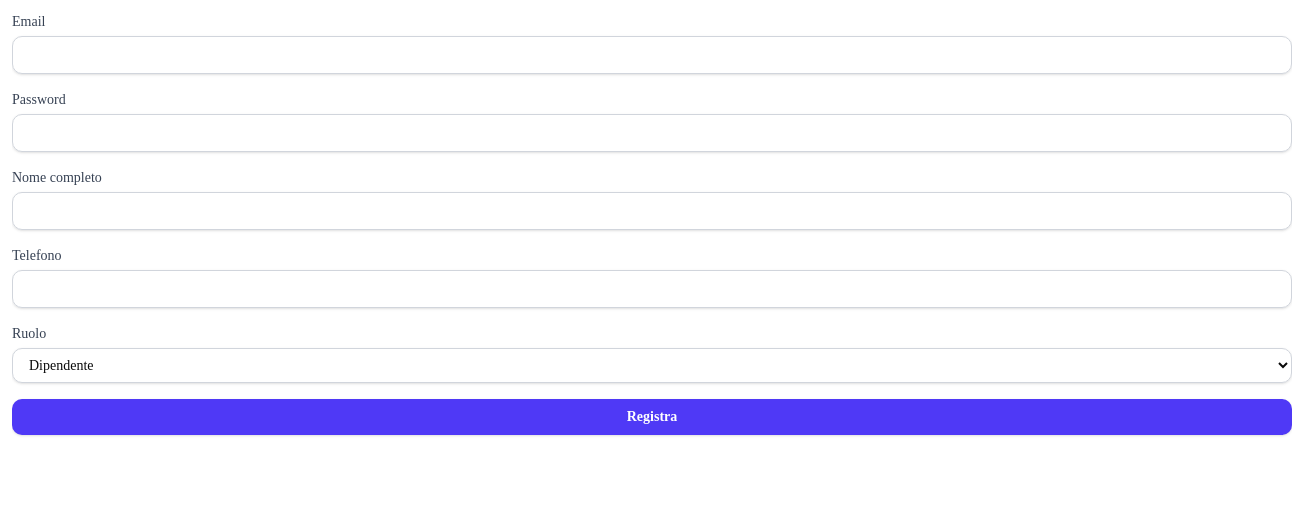
it: RegisterPage / RegisterForm › submit — error › shows an error alert when registerUser returns an error
In the field labelled "Email": {"x": 652, "y": 55} [12,36,1292,74], type "esistente@example.com"
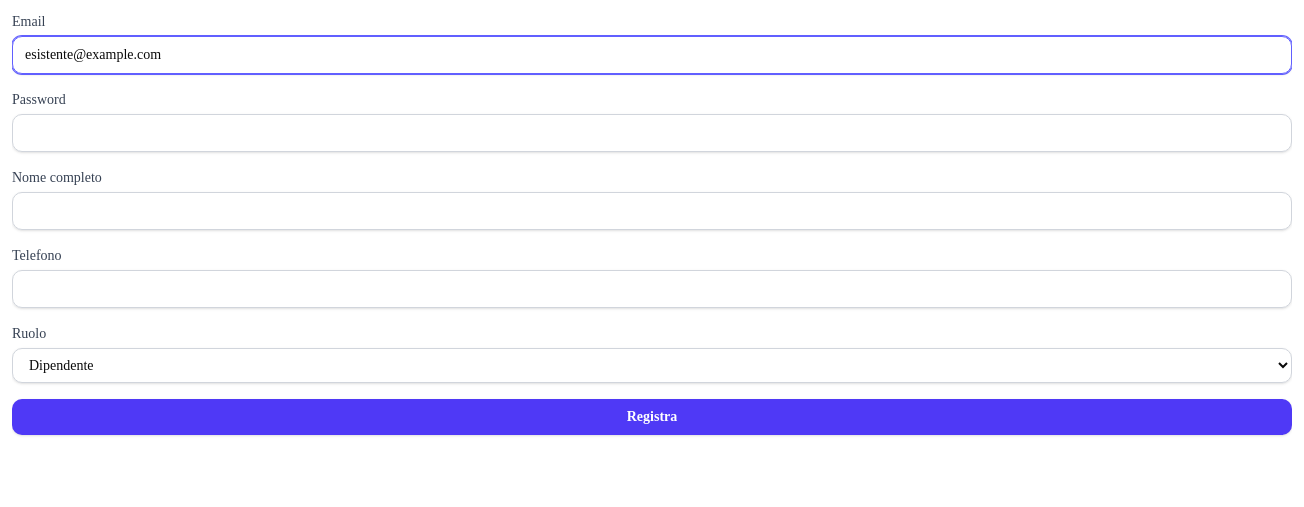
In the password field labelled "Password": {"x": 652, "y": 133} [12,114,1292,152], type "password123"
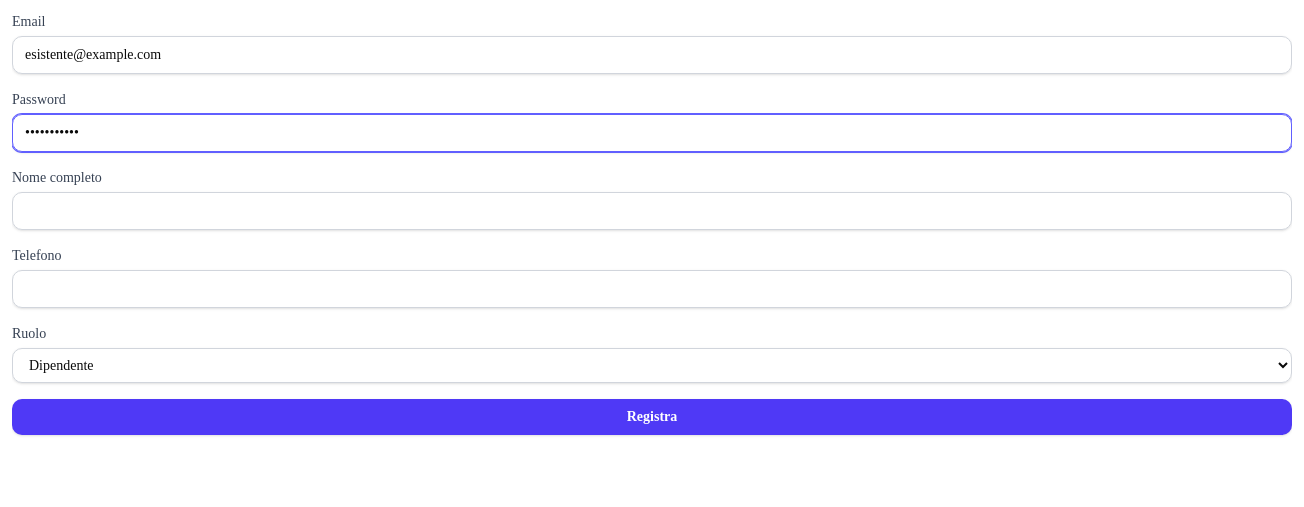
In the field labelled "Nome completo": {"x": 652, "y": 211} [12,192,1292,230], type "Utente Già"
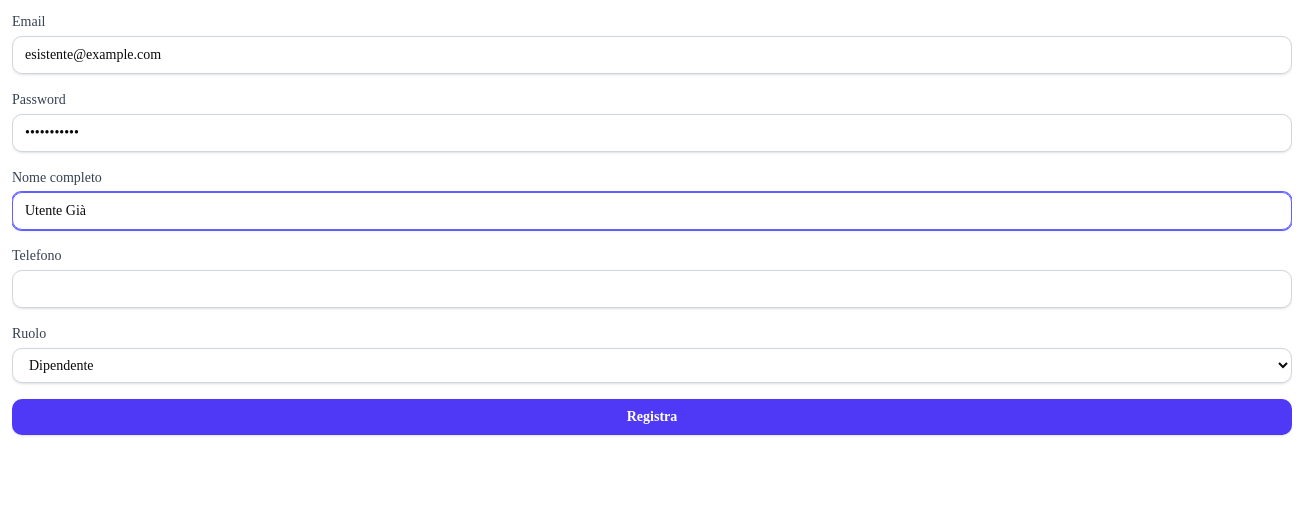
In the field labelled "Telefono": {"x": 652, "y": 289} [12,270,1292,308], type "3331234567"
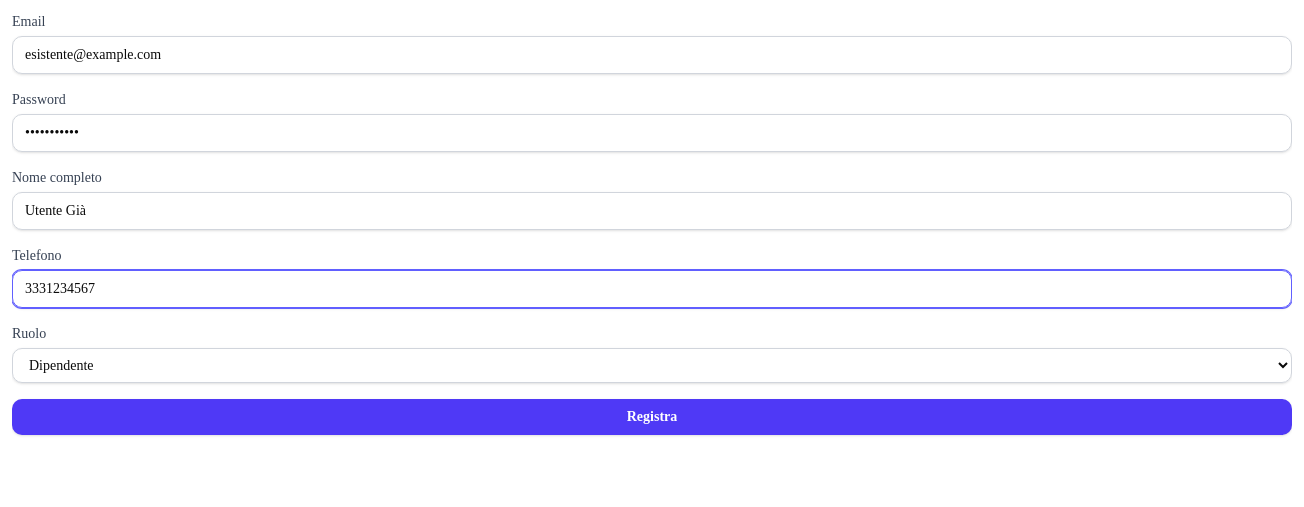
Click the button "Registra": {"x": 652, "y": 417} [12,399,1292,435]
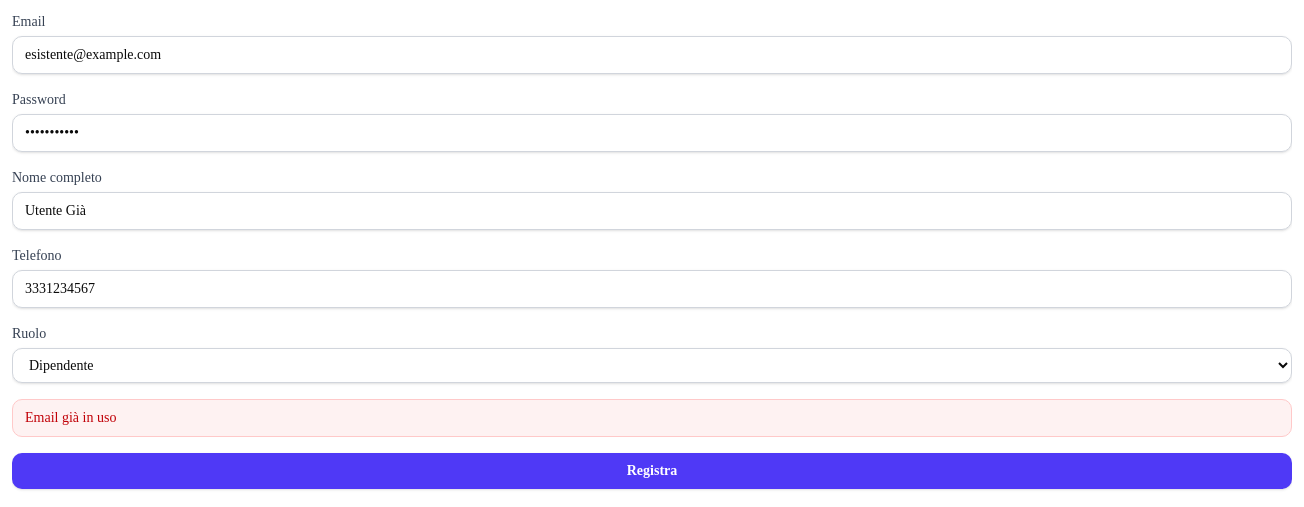
Expected: the message "Email già in uso" is shown, [12,399,1292,437]
